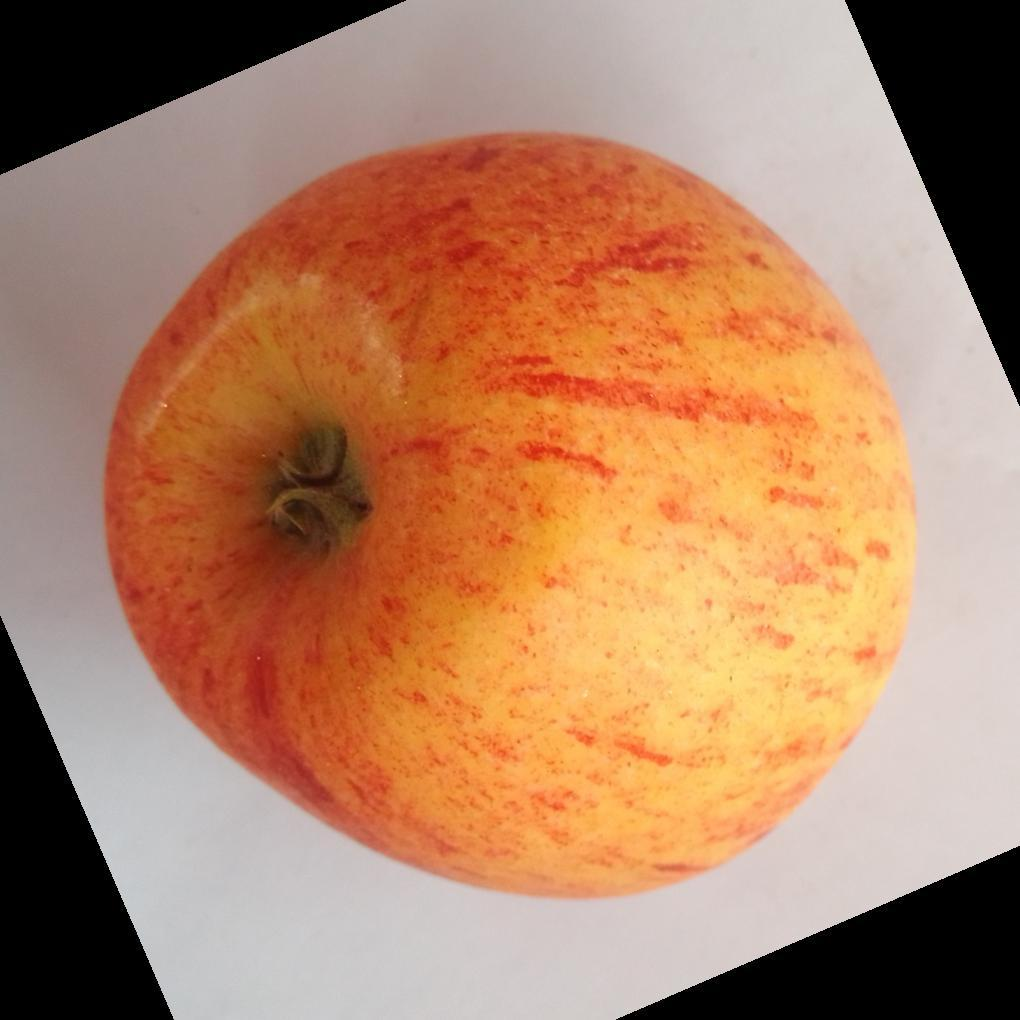FreshGuava: (99, 132, 920, 905)
